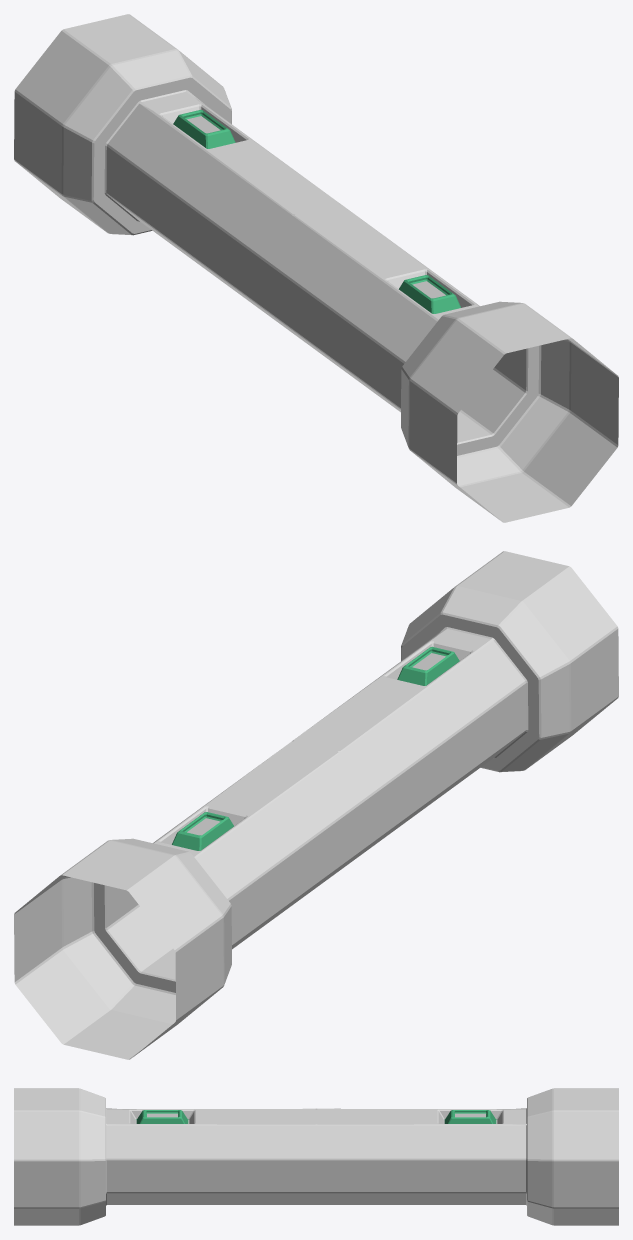
The model's file is Transit.fbx.
3 renders of one model, top to bottom at view 1: azimuth 30°, elevation 25°; view 2: azimuth 150°, elevation 25°; view 3: azimuth 270°, elevation 25°, orthographic. The views are drawn at different scales.
Parts seen in each view (by area): view 1: Transit; view 2: Transit; view 3: Transit.
Part boxes in pixels (x1,y1,x2,y2): Transit: (14, 14, 618, 522); Transit: (14, 551, 618, 1059); Transit: (14, 1088, 618, 1225).
Bounding box in the file's own units: 42.58 × 42.58 × 201.
